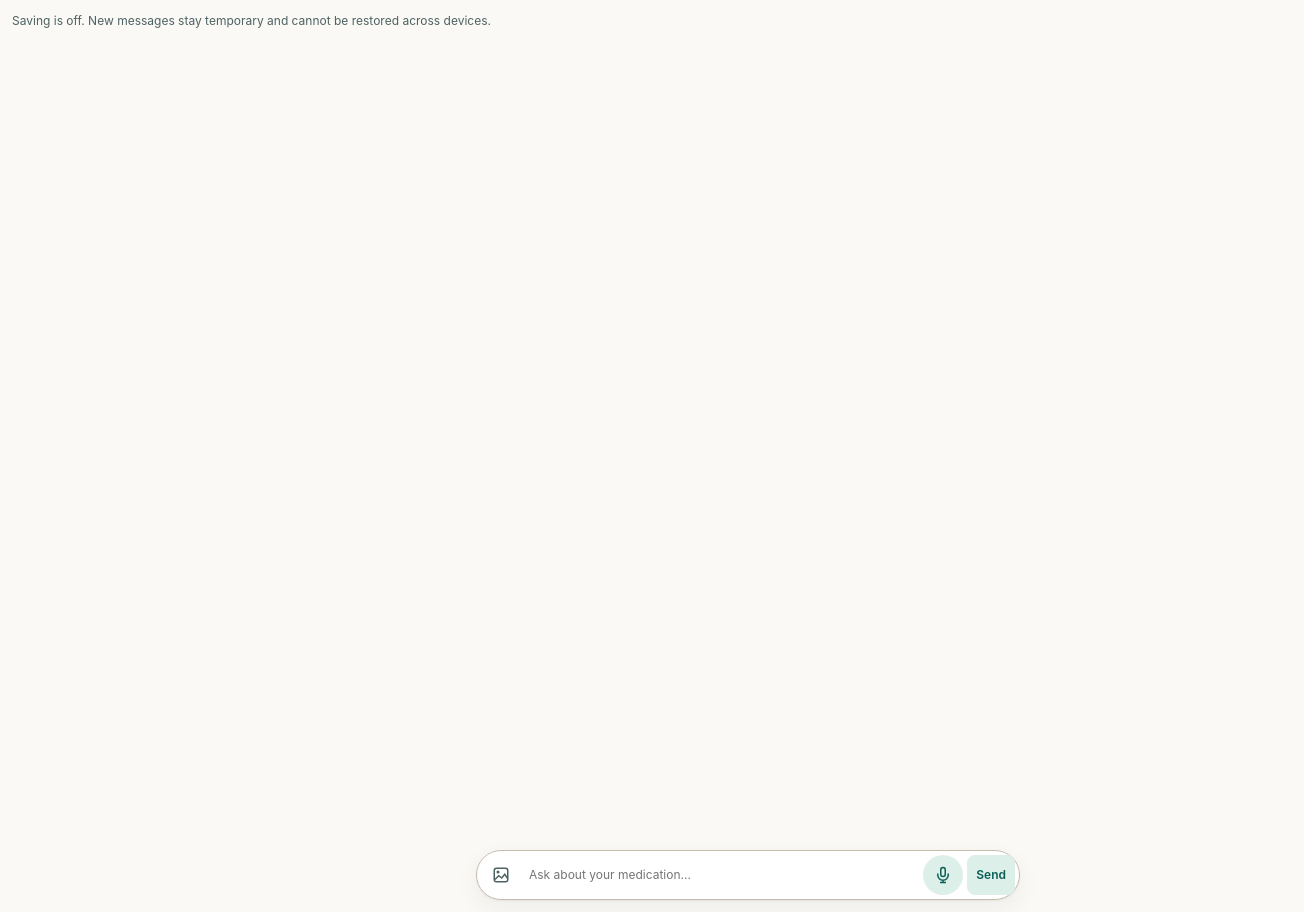
Scenario: opens the original saved enrollment returned by the guarded recovery endpoint
Type "Add a medication" into the field at x=722, y=875, box [525,855,919,895]
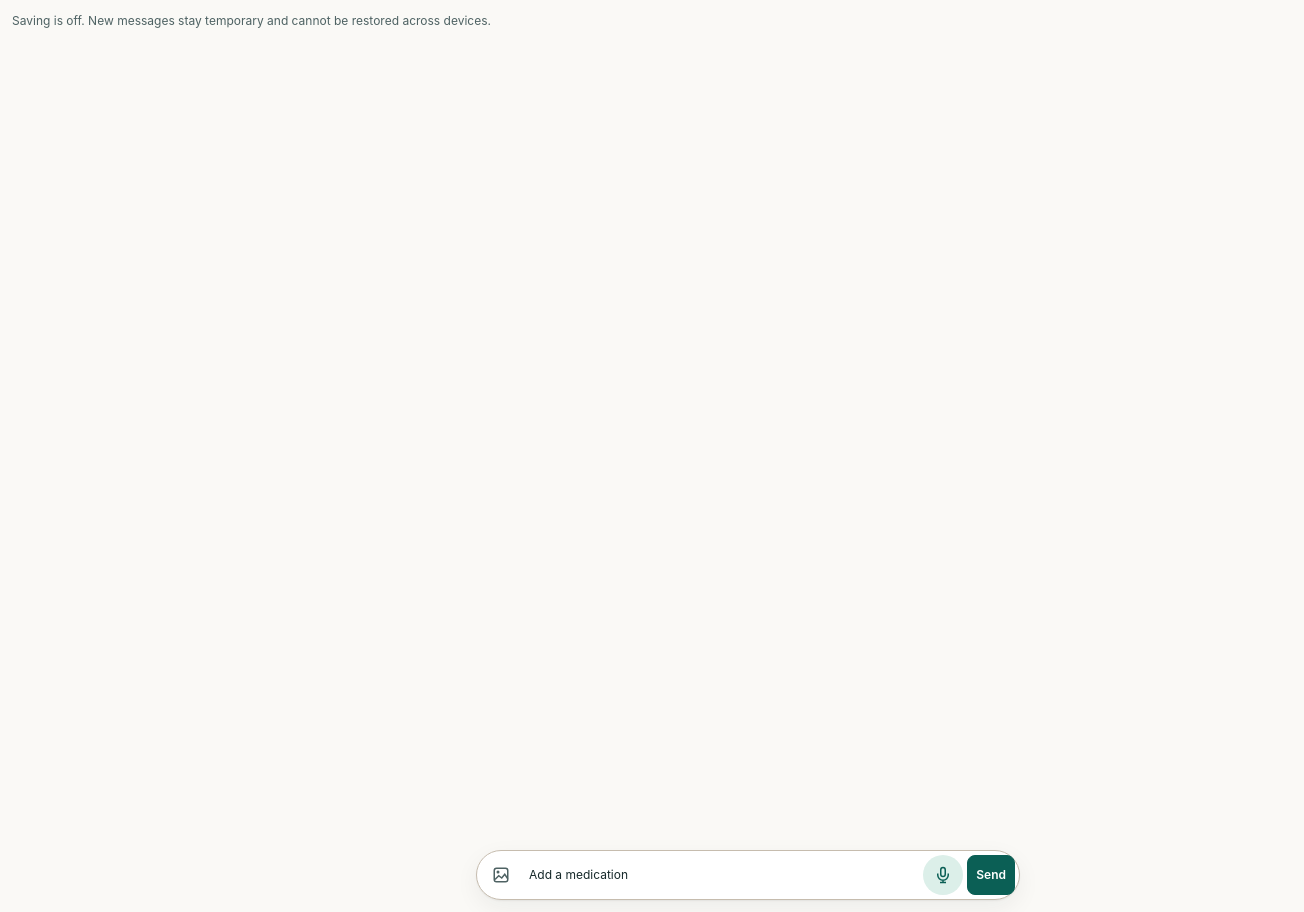
Click the button "Send" at x=991, y=875, box [967,855,1015,895]
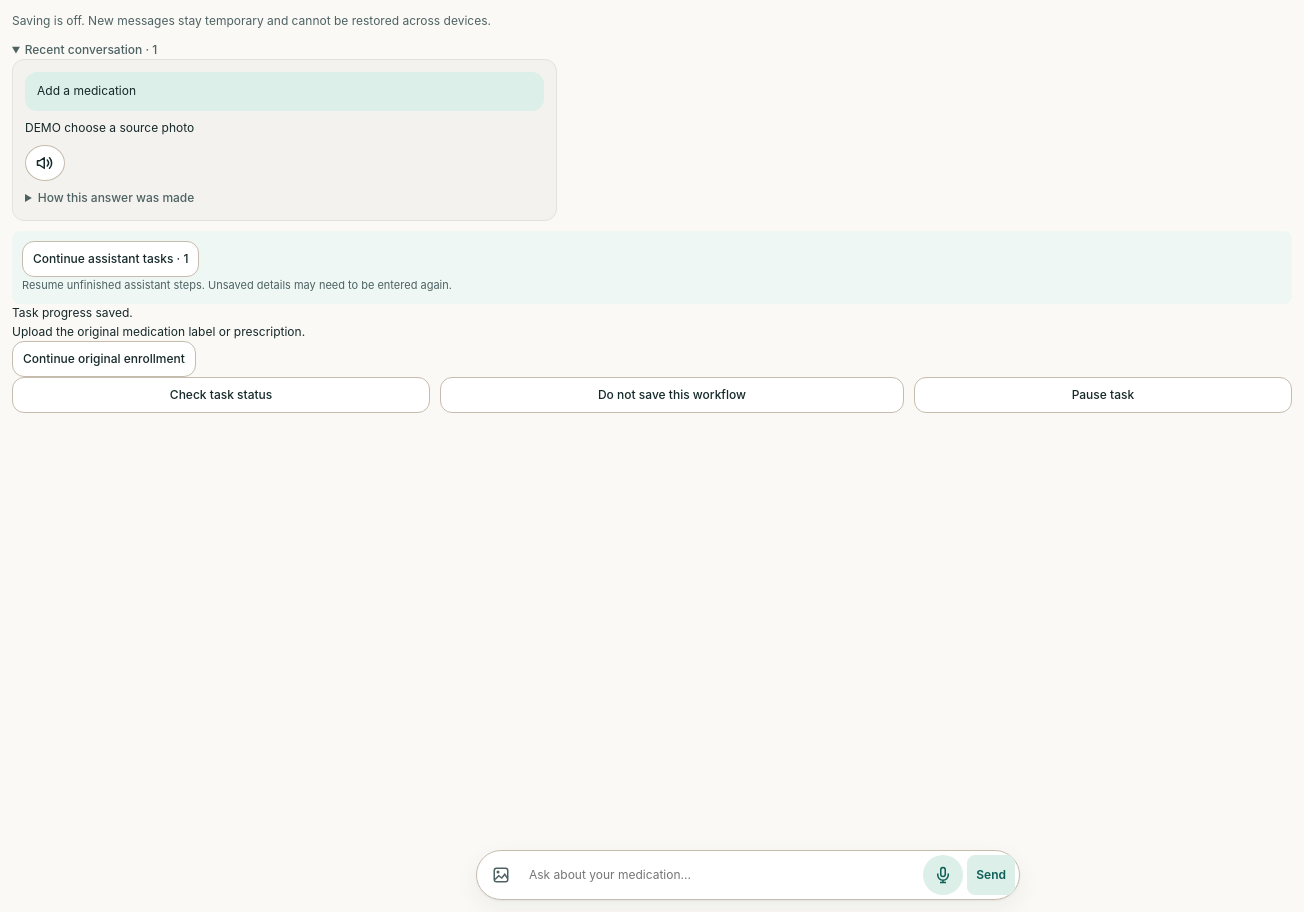
Now the text "DEMO choose a source photo" is shown, box [25,120,194,135]
Click the button "Continue original enrollment" at x=104, y=359, box [12,341,196,377]
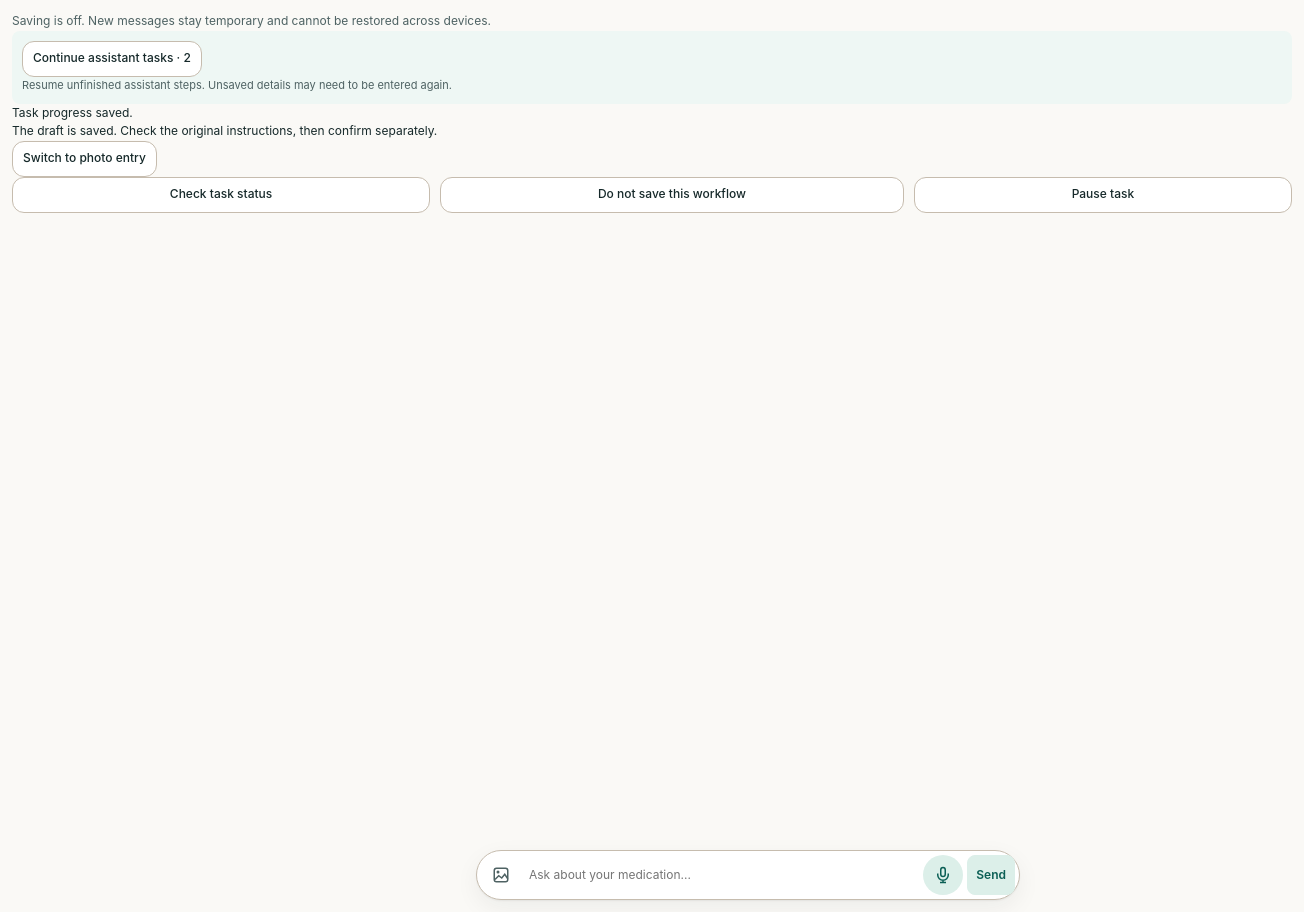
Now the text "The draft is saved. Check the original instructions, then confirm separately." is shown, box [12,123,437,138]
